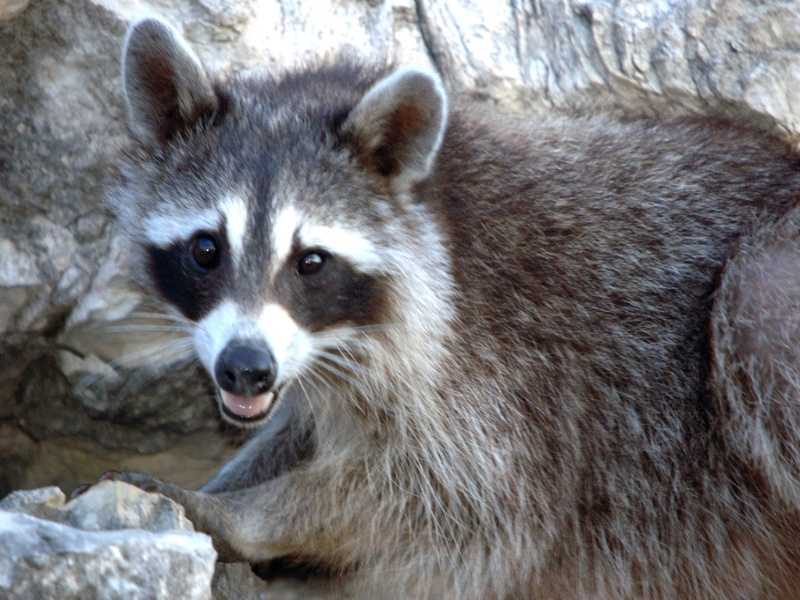raccoon: (121, 12, 796, 583)
